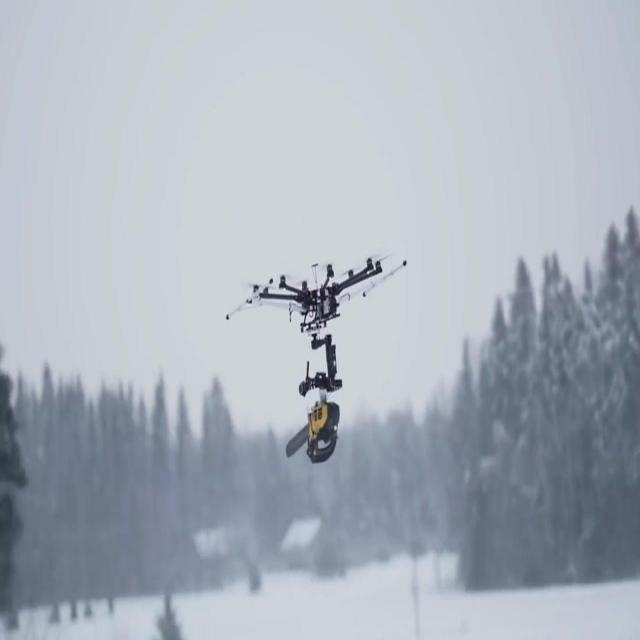UAV: (225, 246, 399, 332)
